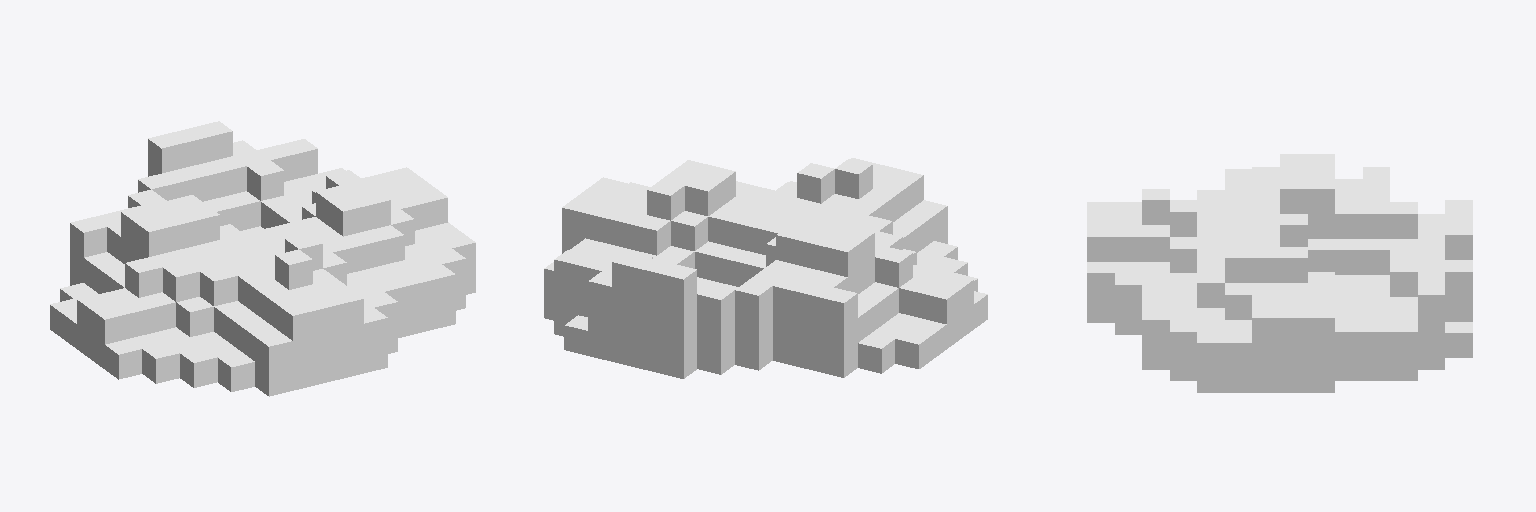
Rendered from rock_props_01.vox.obj.
3 views of the same model, side by side, from view 1: azimuth 30°, elevation 25°; view 2: azimuth 150°, elevation 25°; view 3: azimuth 270°, elevation 25° (orthographic).
Parts seen in each view (by area): view 1: object 1; view 2: object 1; view 3: object 1.
Part boxes in pixels (x1,y1,x2,y2): object 1: (50,121,475,396); object 1: (544,158,987,378); object 1: (1087,154,1472,392).
Size of the model in its own units: 1.5 by 0.4 by 1.4.